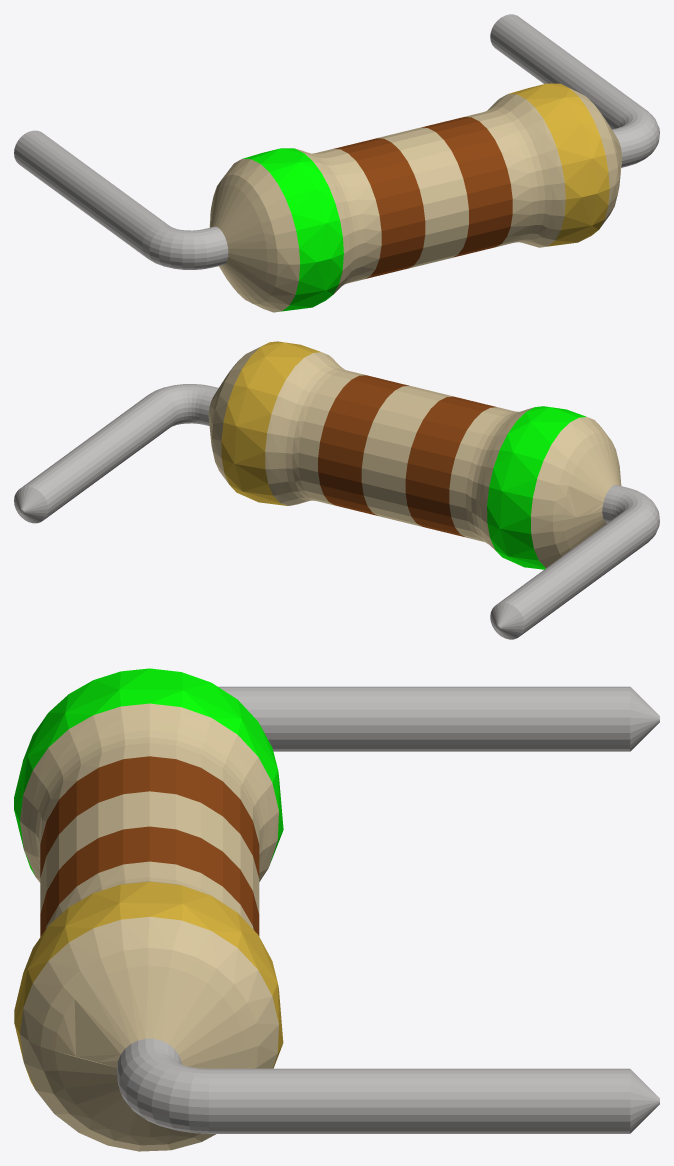
File: Yageo CFR-25 Resistor Axial P7.62mm 510,0 Ohm.obj
3 renders of one model, top to bottom at view 1: azimuth 30°, elevation 25°; view 2: azimuth 150°, elevation 25°; view 3: azimuth 270°, elevation 25°, orthographic. The views are drawn at different scales.
Parts seen in each view (by area): view 1: Yageo_CFR-25_Resistor_Axial_P7.62mm_510,0_Ohm; view 2: Yageo_CFR-25_Resistor_Axial_P7.62mm_510,0_Ohm; view 3: Yageo_CFR-25_Resistor_Axial_P7.62mm_510,0_Ohm.
Part boxes in pixels (x1,y1,x2,y2): Yageo_CFR-25_Resistor_Axial_P7.62mm_510,0_Ohm: (14, 14, 659, 312); Yageo_CFR-25_Resistor_Axial_P7.62mm_510,0_Ohm: (14, 341, 659, 639); Yageo_CFR-25_Resistor_Axial_P7.62mm_510,0_Ohm: (14, 668, 659, 1151).
Bounding box in the file's own units: 0.0211 × 0.00583 × 0.0141.
